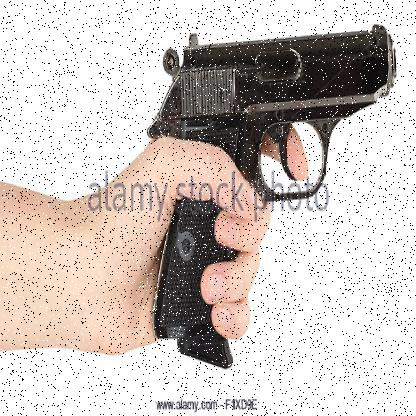pistol: (144, 24, 399, 358)
